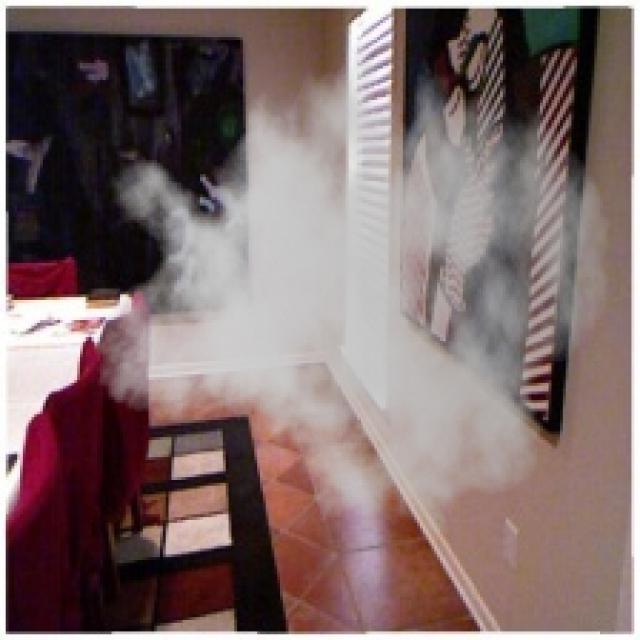Smoke: (91, 14, 612, 552)
